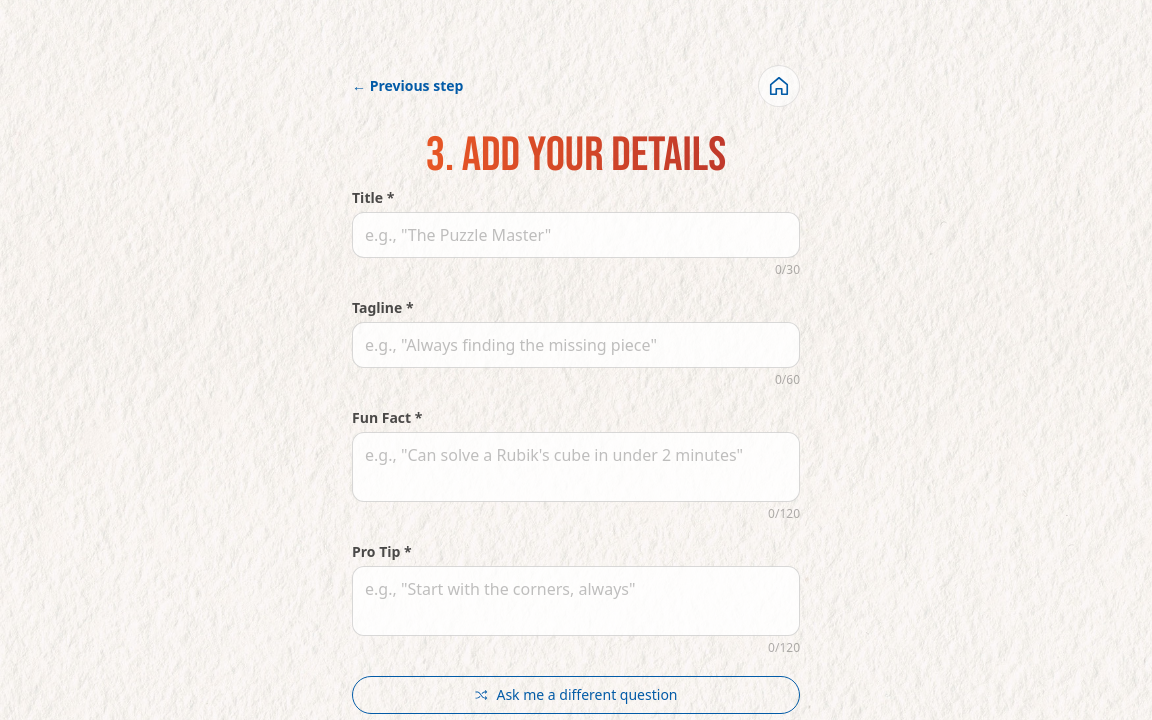
Test case: TextEntry › shows profanity error when inappropriate word is entered
Type "badword" into the field with test id "field-title" at (576, 235), box [352, 212, 800, 258]
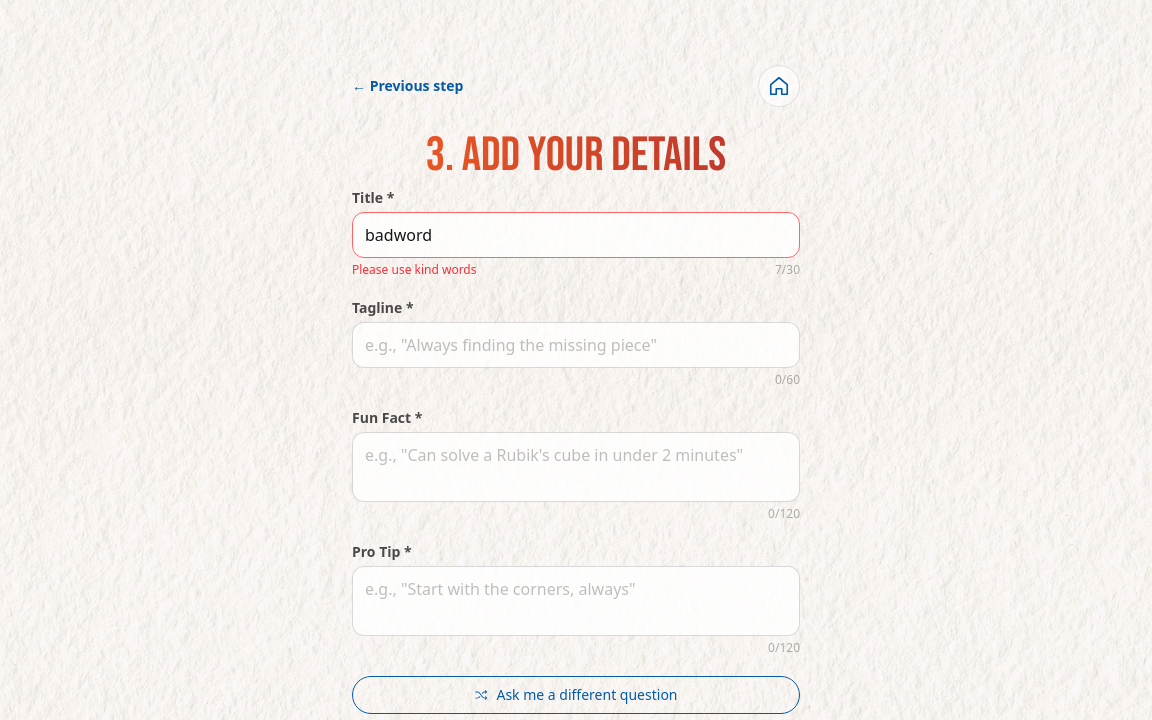
Now the message "Please use kind words" is shown, box [352, 262, 476, 278]
Now the message with test id "profanity-title" reads "Please use kind words", box [352, 261, 476, 278]
